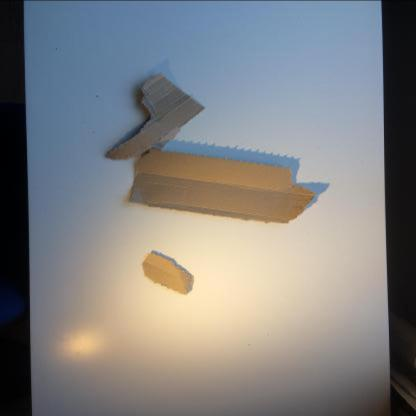Carton: (128, 149, 316, 224), (105, 72, 205, 160), (142, 252, 195, 294)
